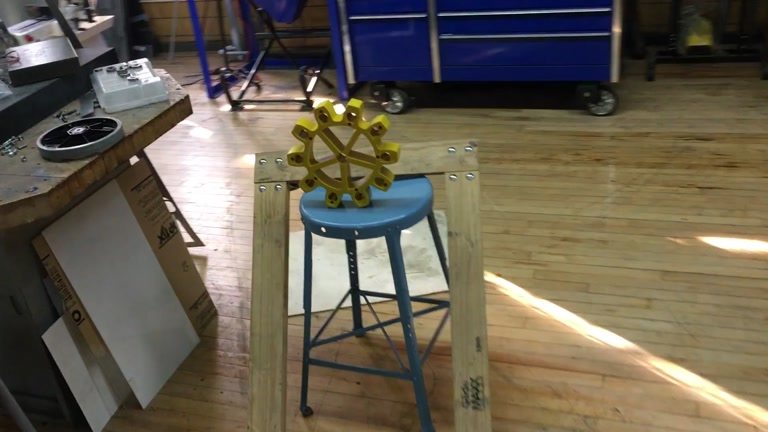gear: (286, 101, 401, 209)
